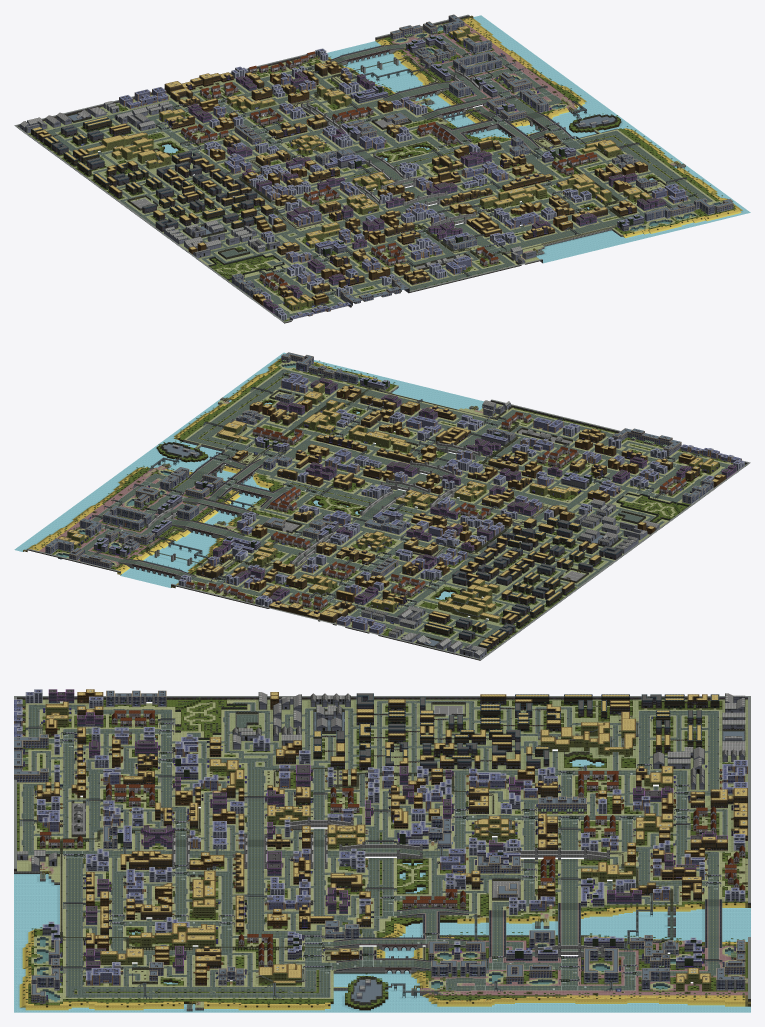
The picture shows the model from 3 angles, top to bottom: view 1: azimuth 30°, elevation 25°; view 2: azimuth 150°, elevation 25°; view 3: azimuth 270°, elevation 25°; orthographic projection. The views are drawn at different scales.
Parts seen in each view (by area): view 1: VC_Map_VC_Map_Upscaled_0; view 2: VC_Map_VC_Map_Upscaled_0; view 3: VC_Map_VC_Map_Upscaled_0.
Boxes of the visible parts, x1,y1,x2,y2 form: VC_Map_VC_Map_Upscaled_0: [14, 14, 750, 323]; VC_Map_VC_Map_Upscaled_0: [14, 352, 750, 660]; VC_Map_VC_Map_Upscaled_0: [14, 689, 750, 1012].
Bounding box in the file's own units: 2.56 × 0.05 × 2.56.
Materials: 1 (1 with a texture image).
